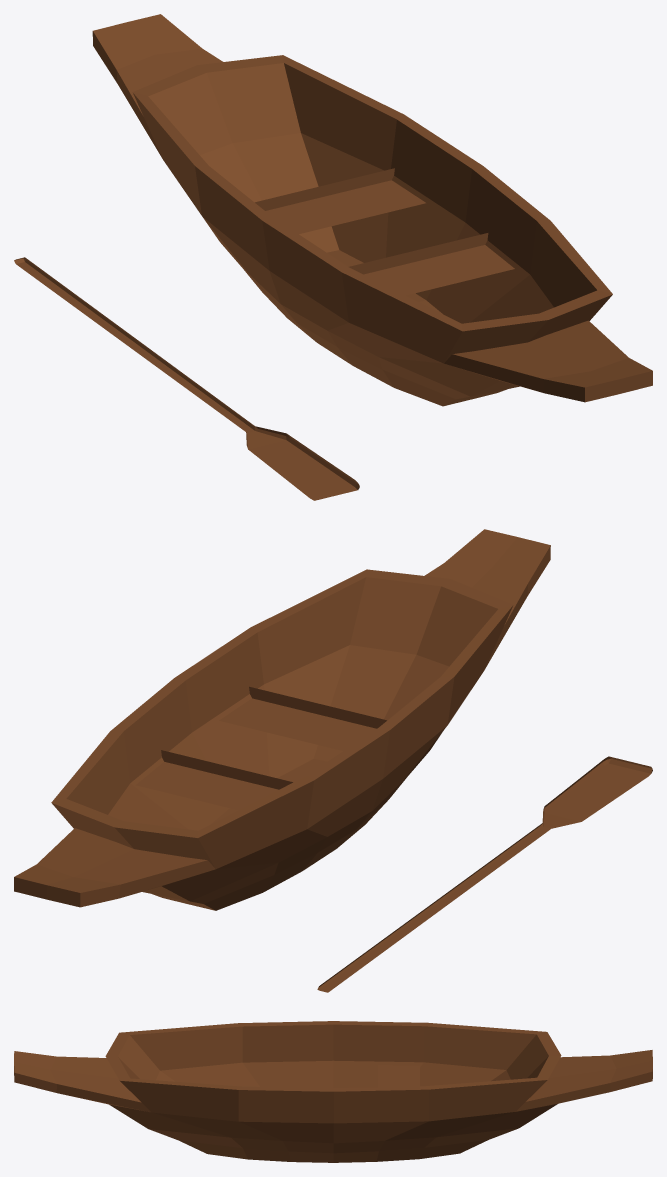
The model's file is thai_canoe.glb.
3 views of the same model, one above another, from view 1: azimuth 30°, elevation 25°; view 2: azimuth 150°, elevation 25°; view 3: azimuth 270°, elevation 25° (orthographic). The views are drawn at different scales.
Visible parts, largest first — view 1: thai_canoe; view 2: thai_canoe; view 3: thai_canoe.
Boxes of the visible parts, x1=… form: thai_canoe: x1=14, y1=14, x2=652, y2=500; thai_canoe: x1=14, y1=529, x2=652, y2=992; thai_canoe: x1=14, y1=1021, x2=652, y2=1162.
Size of the model in its own units: 1.52 by 0.5969 by 3.86.
